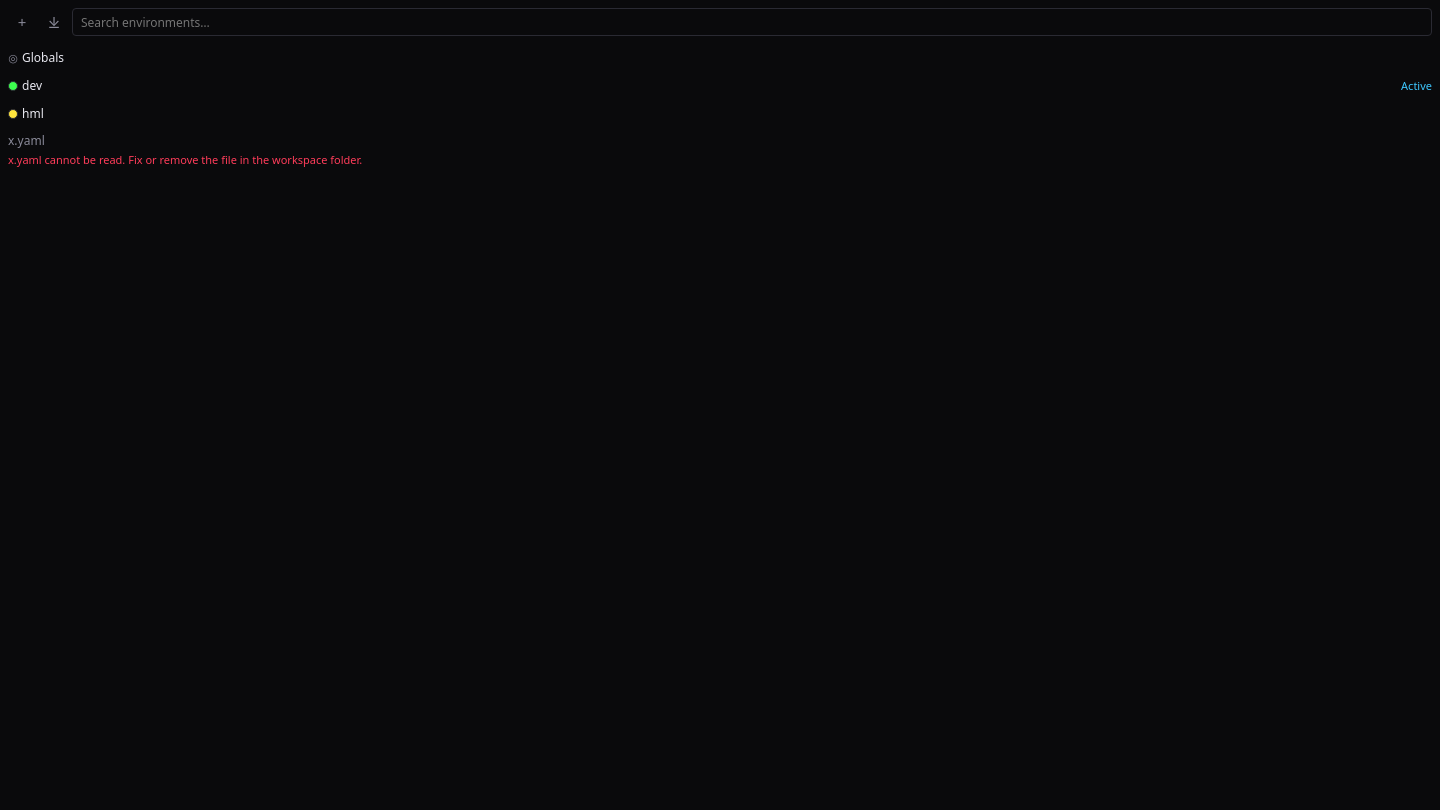
EnvironmentsView › deletes an environment only after confirmation
This screenshot has width=1440, height=810.
Right-click the button with aria-label "dev, active" at (1417, 85), box 0,72 -> 1439,100
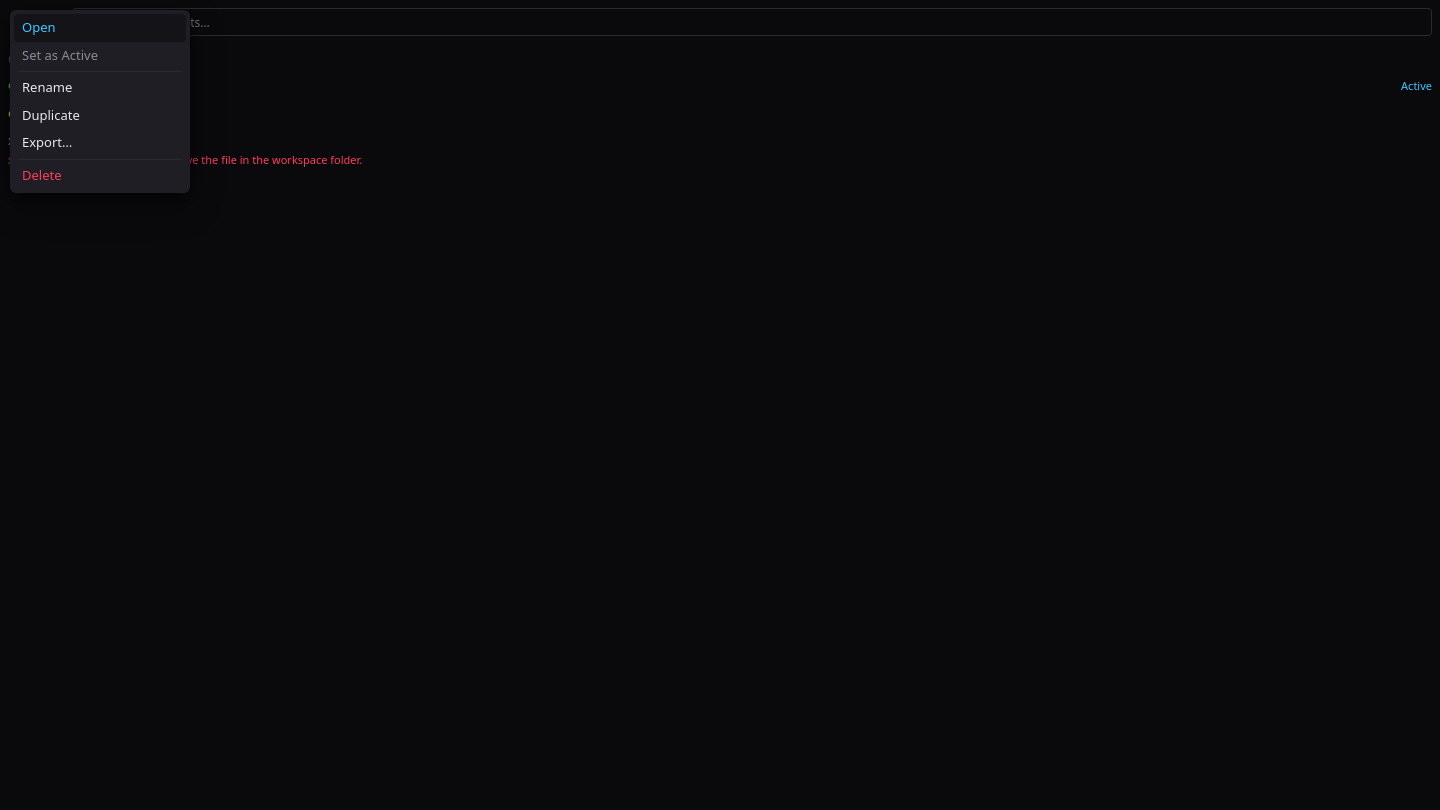
Click the menu item "Delete" at (100, 175), box 14,162 -> 186,189
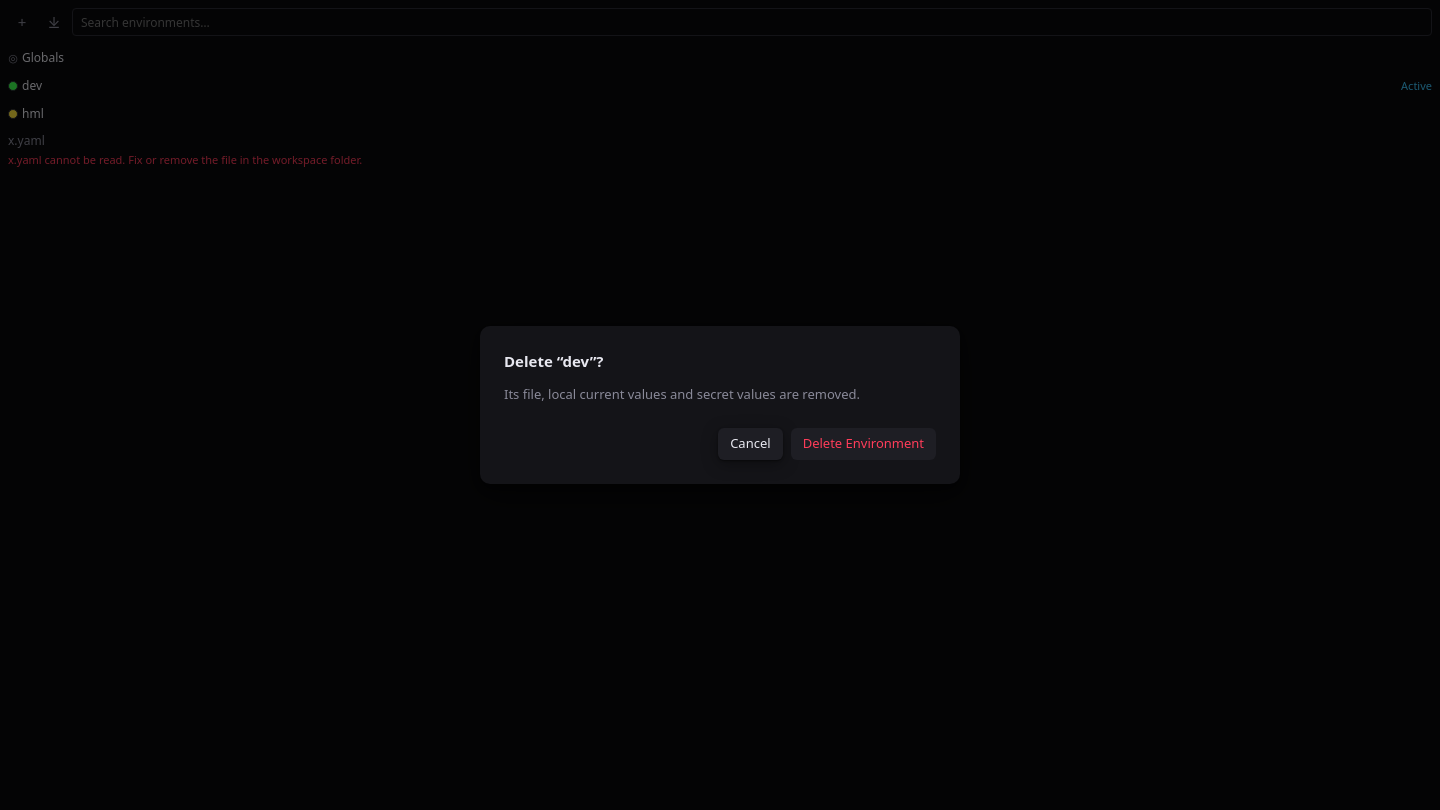
Check: the dialog "Delete “dev”?" shows "Its file, local current values and secret values are removed.", box 504,384 -> 860,402
Click the button "Cancel" at (750, 444), box 718,428 -> 783,460
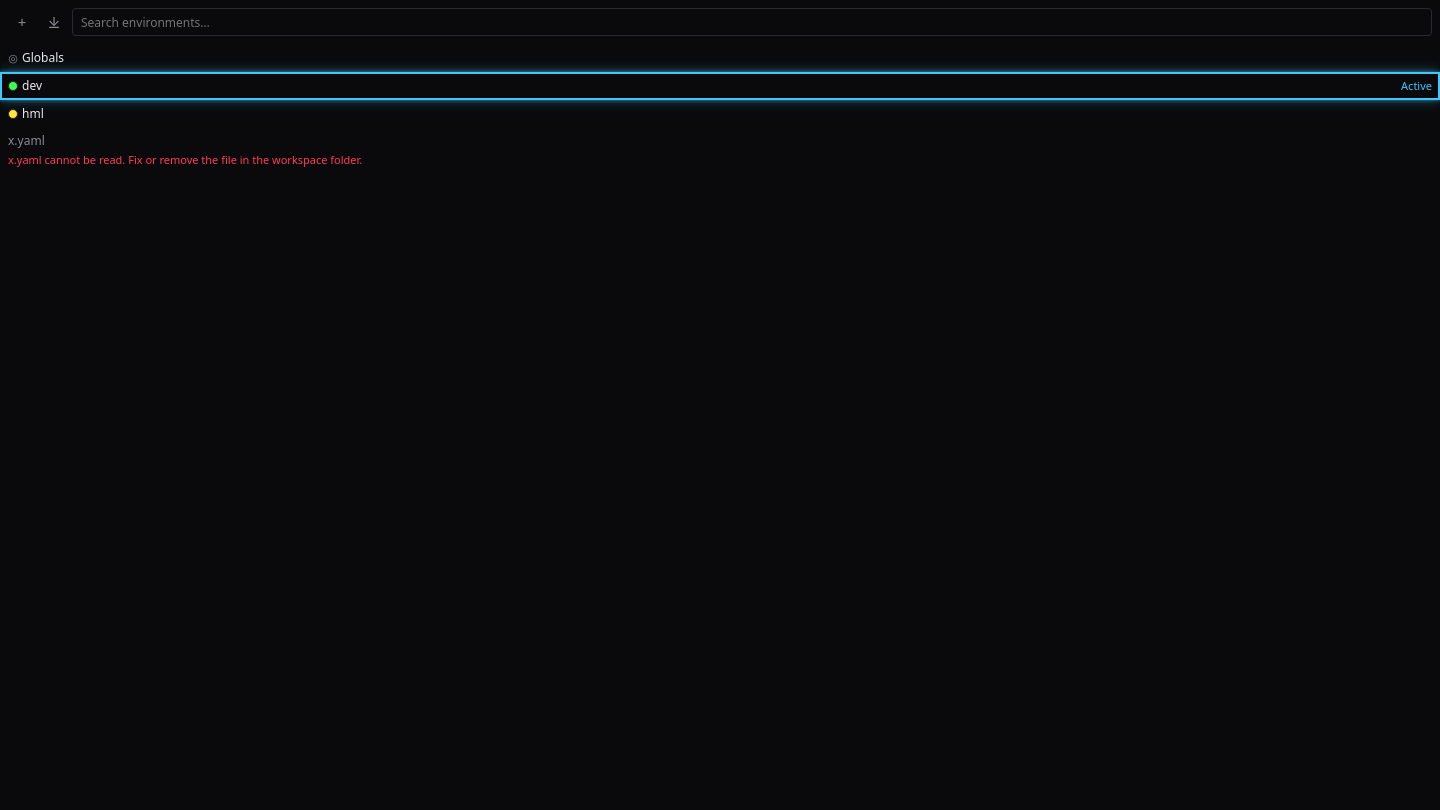
Right-click the button with aria-label "dev, active" at (1417, 85), box 0,72 -> 1439,100
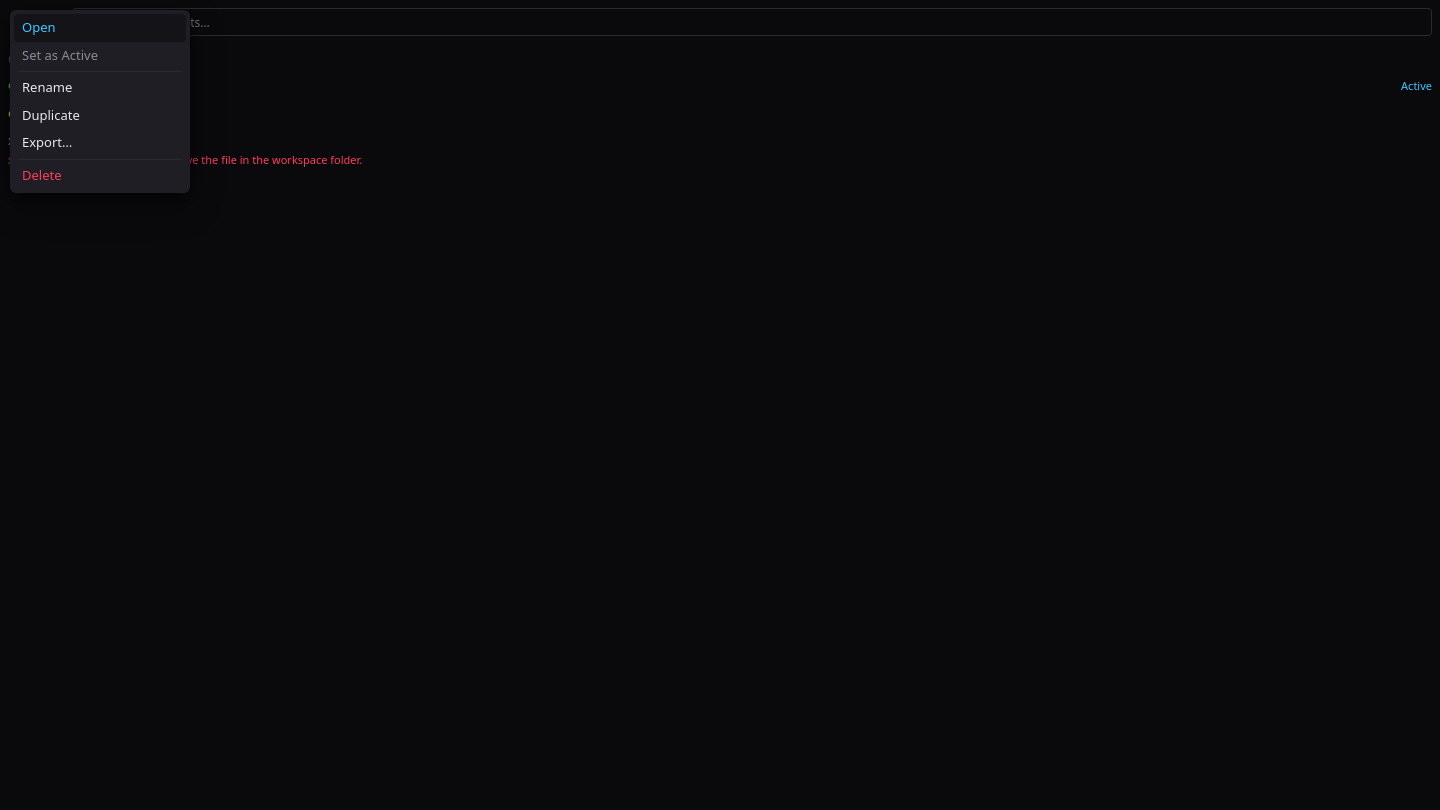
Click the menu item "Delete" at (100, 175), box 14,162 -> 186,189
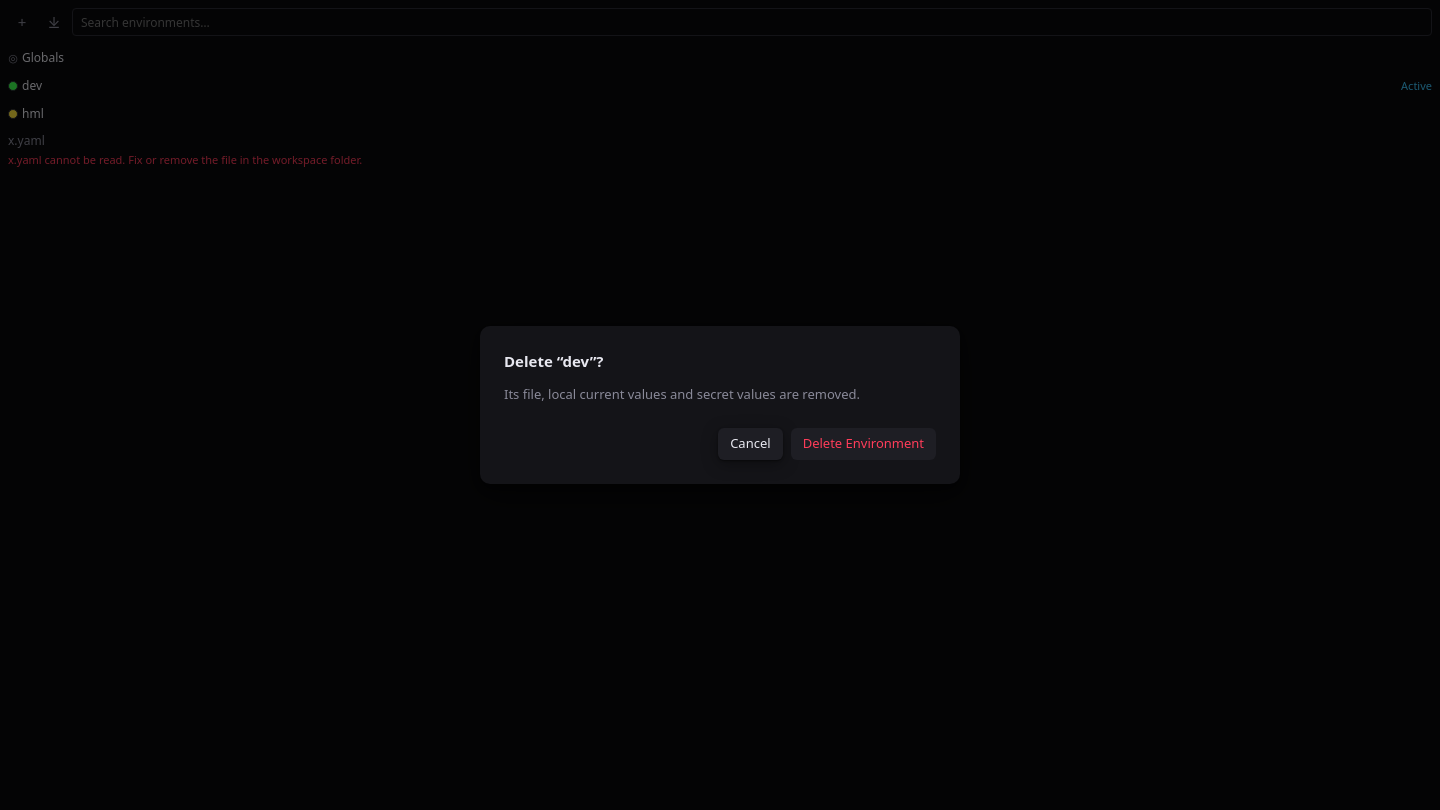
Click the button "Delete Environment" at (863, 444), box 791,428 -> 936,460
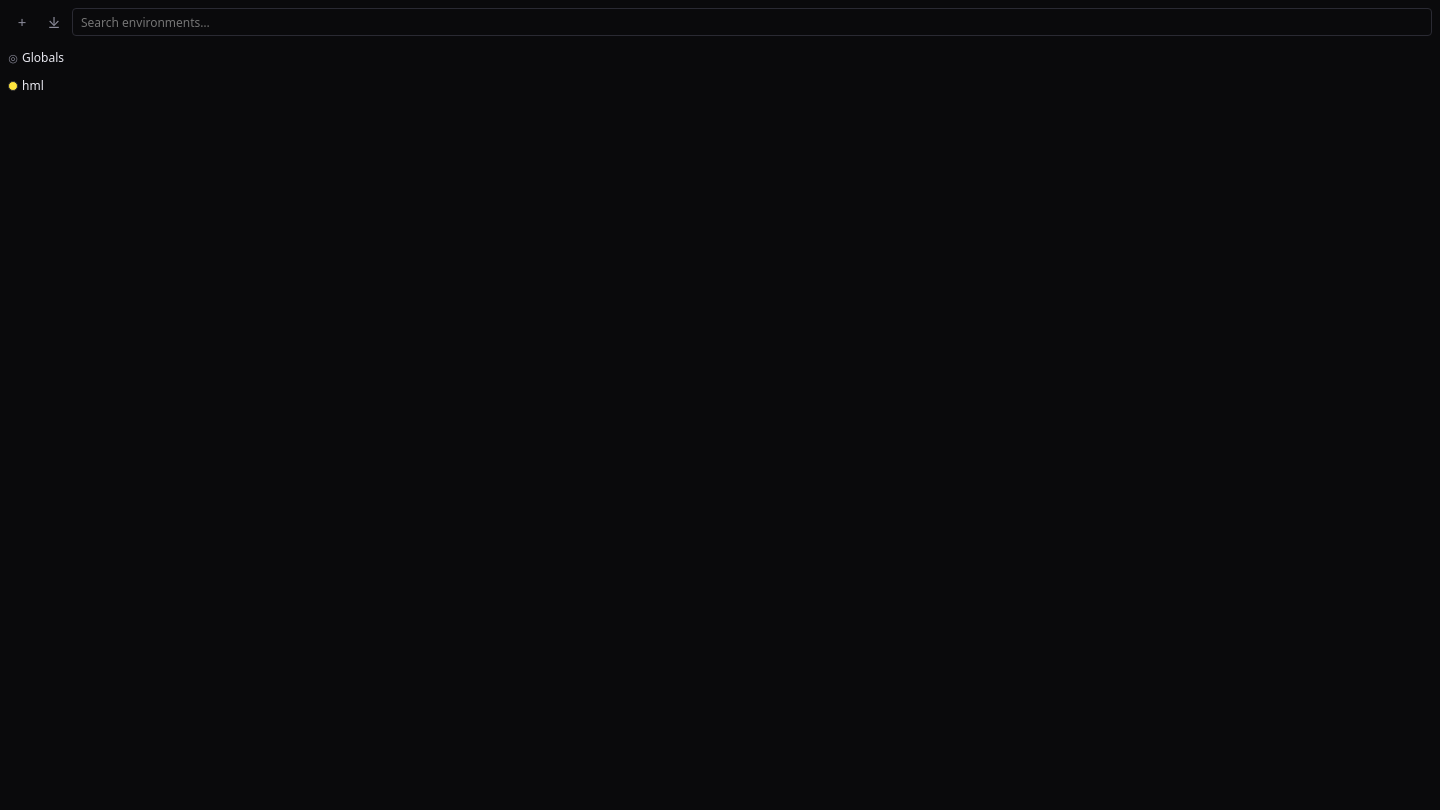
Check: the dialog is gone
